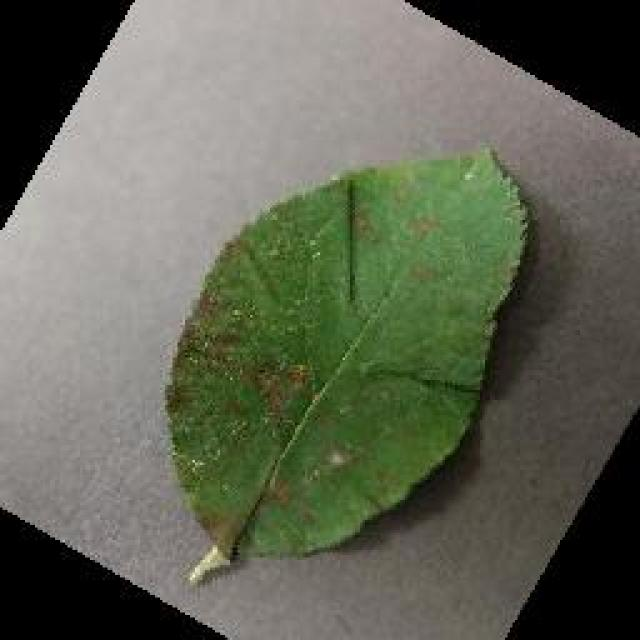apple cedar apple rust: (160, 143, 535, 585)
